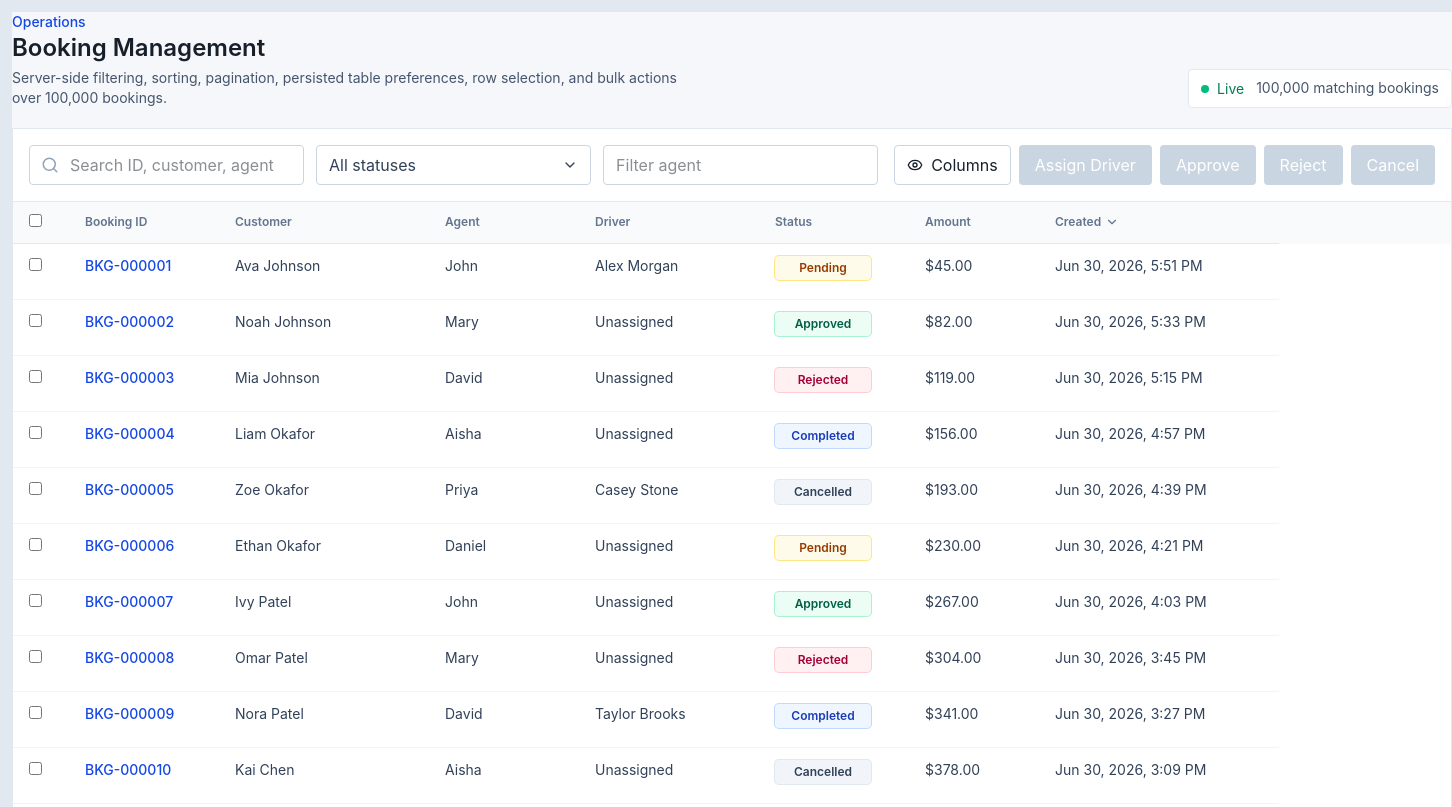
BookingsPage › updates the selected booking status after approving a row
The width and height of the screenshot is (1452, 807).
Expected: the link named "Select booking BKG-000001" is shown, x1=13 y1=244 x2=1451 y2=300
Expected: the text "pending" in the row of "BKG-000001" is shown, x1=799 y1=260 x2=847 y2=275
Click the checkbox named "Select booking BKG-000001" at [36, 264], box x1=29 y1=258 x2=42 y2=271
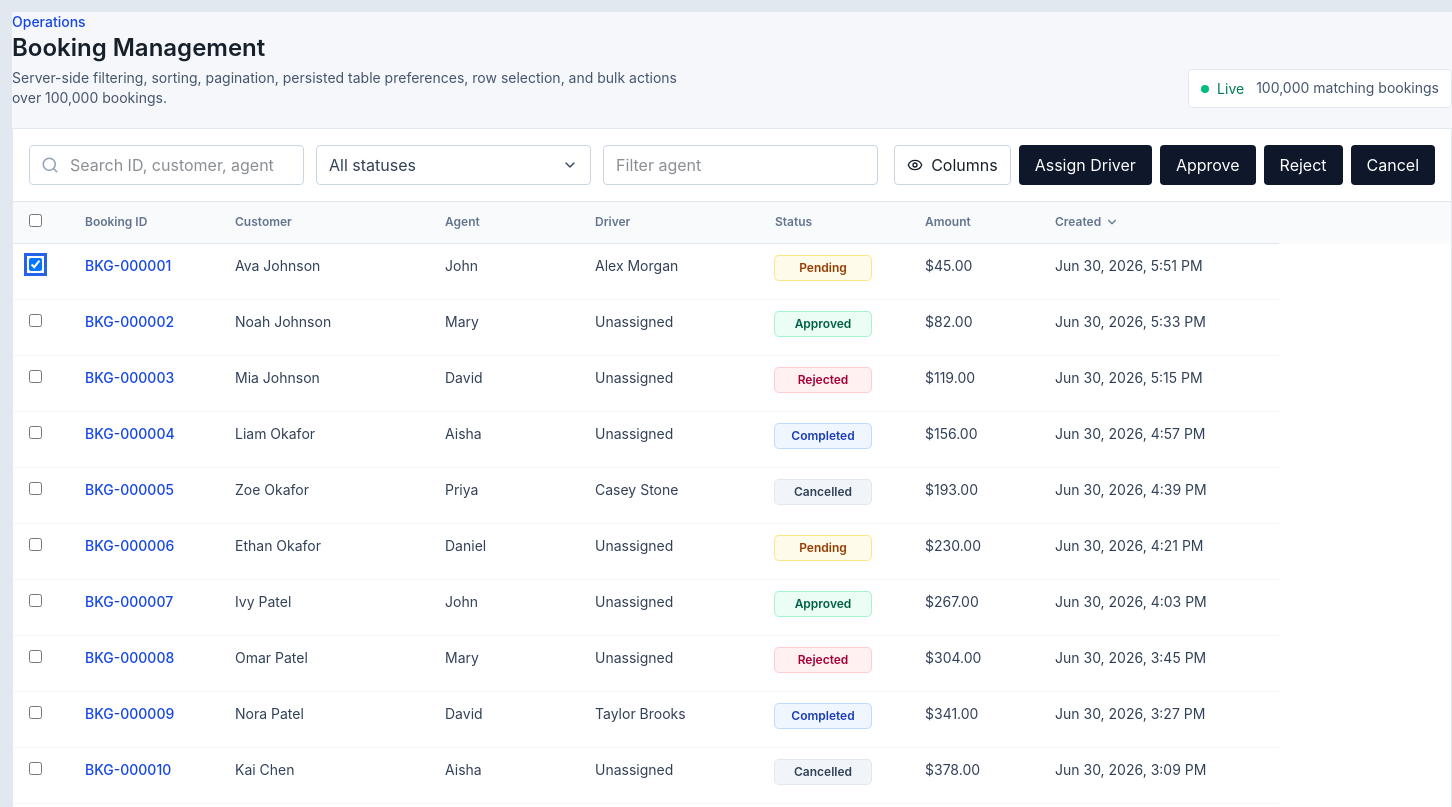
Click the button "Approve" at [1208, 165], box x1=1160 y1=145 x2=1256 y2=185
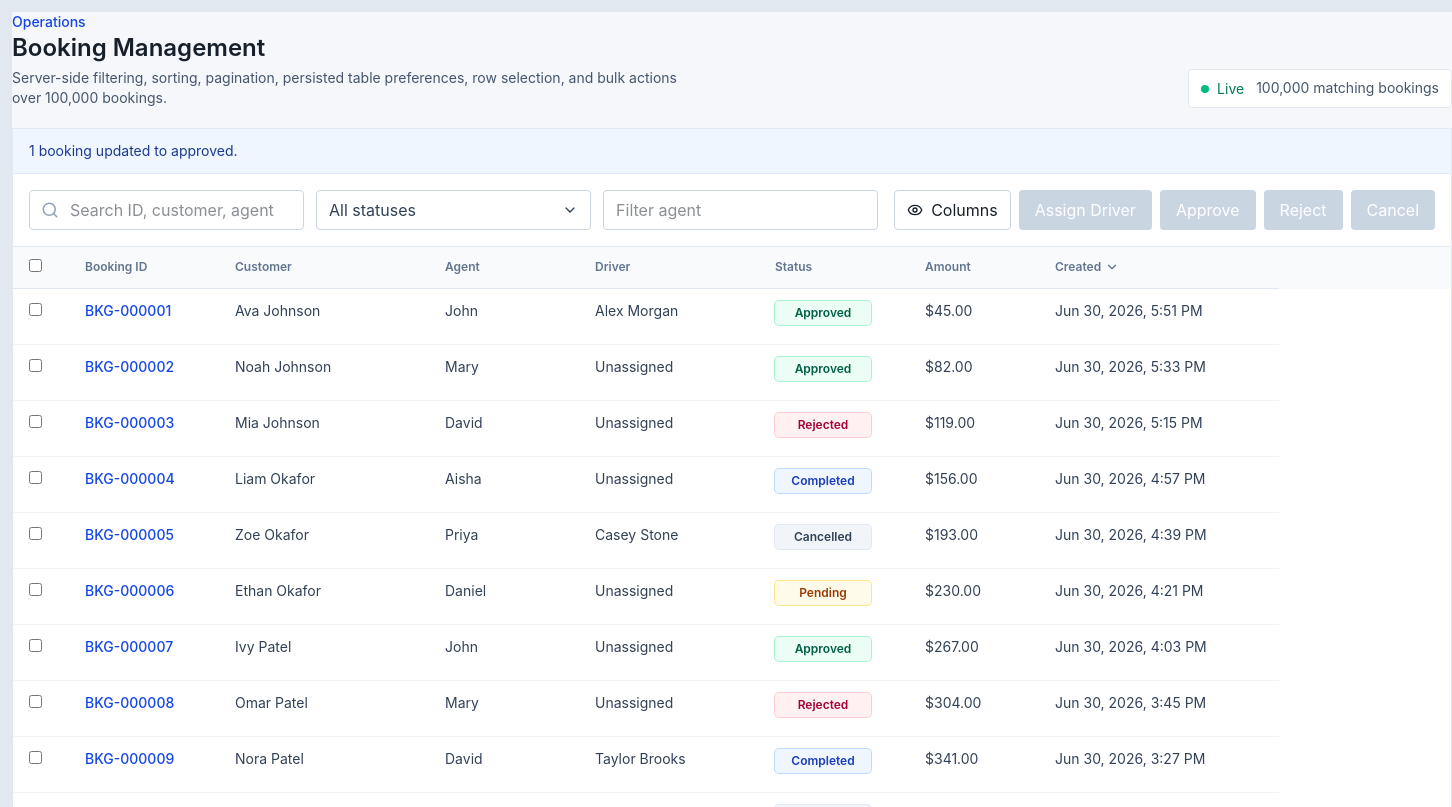
Expected: the text "1 booking updated to approved." is shown, x1=29 y1=142 x2=238 y2=159
Expected: the text "approved" in the row of "BKG-000001" is shown, x1=795 y1=305 x2=851 y2=320
